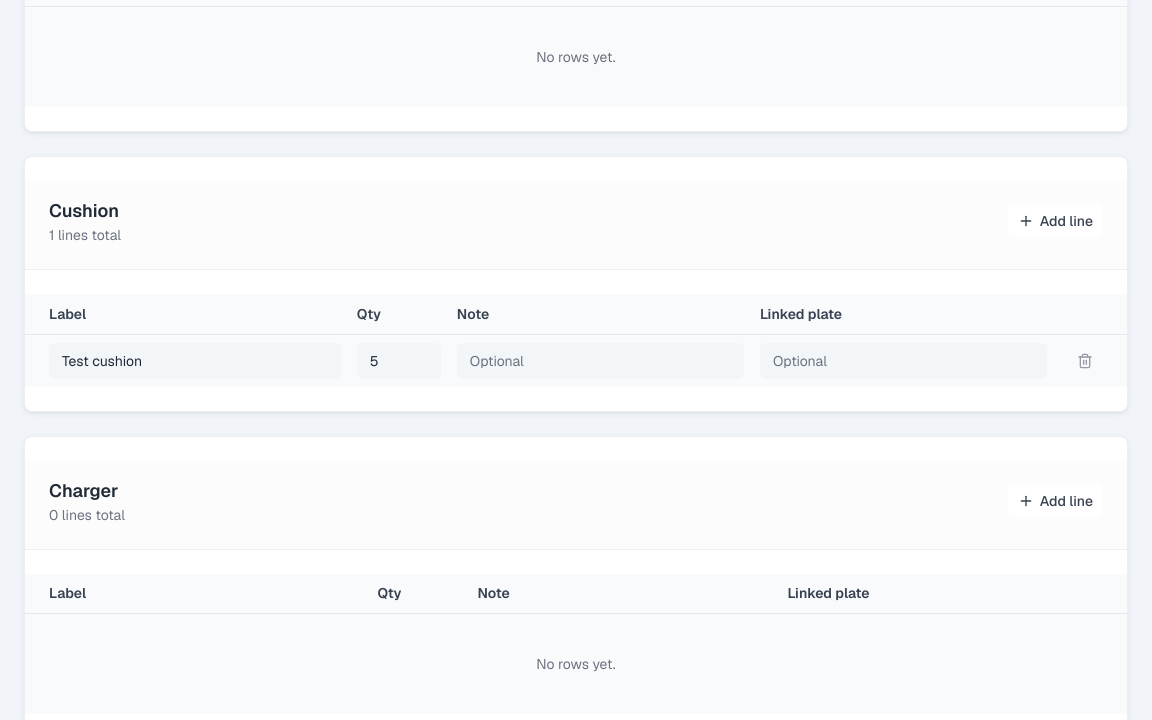
Scenario: AccessoriesPage › quantity input › Bug 1: rejects a negative quantity, clamps to MIN_QTY, and shows a toast
The width and height of the screenshot is (1152, 720).
(page scrolled)
Replace the text in the number field showing "5" with "-5" at (399, 360), box [357, 342, 441, 378]
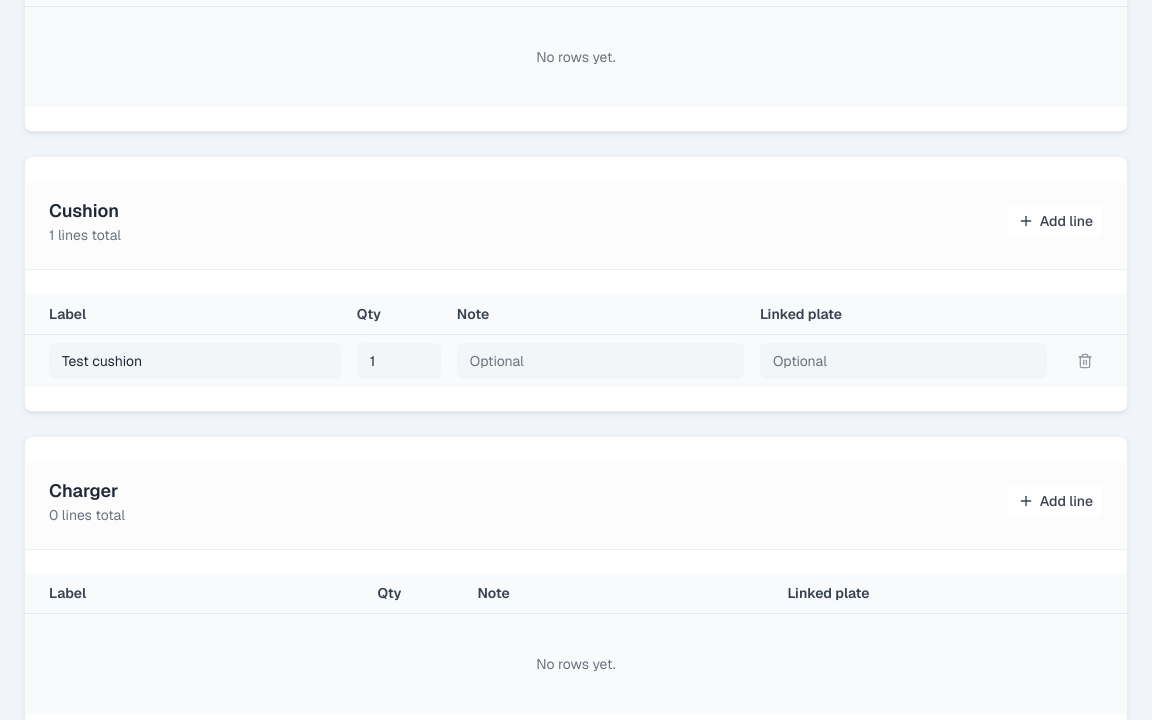
Expected: the number field showing "5" holds "1", [357, 342, 441, 378]
